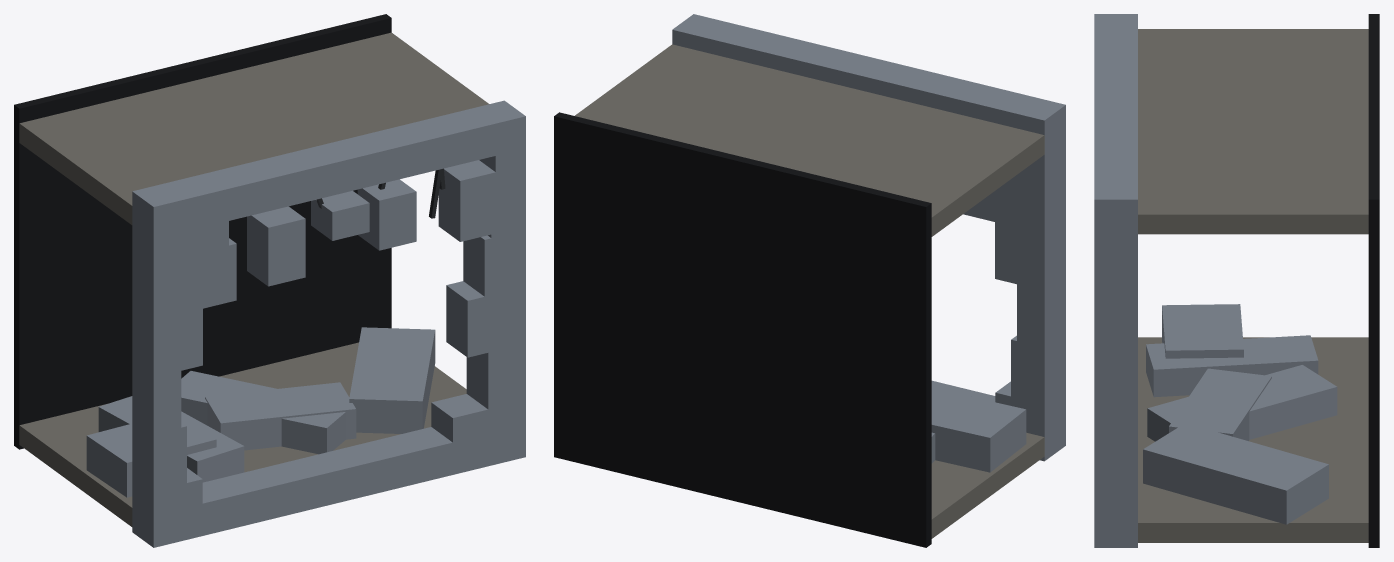
Rendered from cw_hole.glb.
3 renders of one model, left to right at view 1: azimuth 30°, elevation 25°; view 2: azimuth 150°, elevation 25°; view 3: azimuth 270°, elevation 25°, orthographic. The views are drawn at different scales.
Visible parts, largest first — view 1: city_cw_hole; view 2: city_cw_hole; view 3: city_cw_hole.
Part boxes in pixels (x1=…): city_cw_hole: x1=14, y1=14, x2=525, y2=547; city_cw_hole: x1=554, y1=14, x2=1065, y2=547; city_cw_hole: x1=1094, y1=14, x2=1379, y2=547.
Bounding box in the file's own units: 4.04 × 3.5 × 2.6.
Materials: 2 (2 with a texture image).
